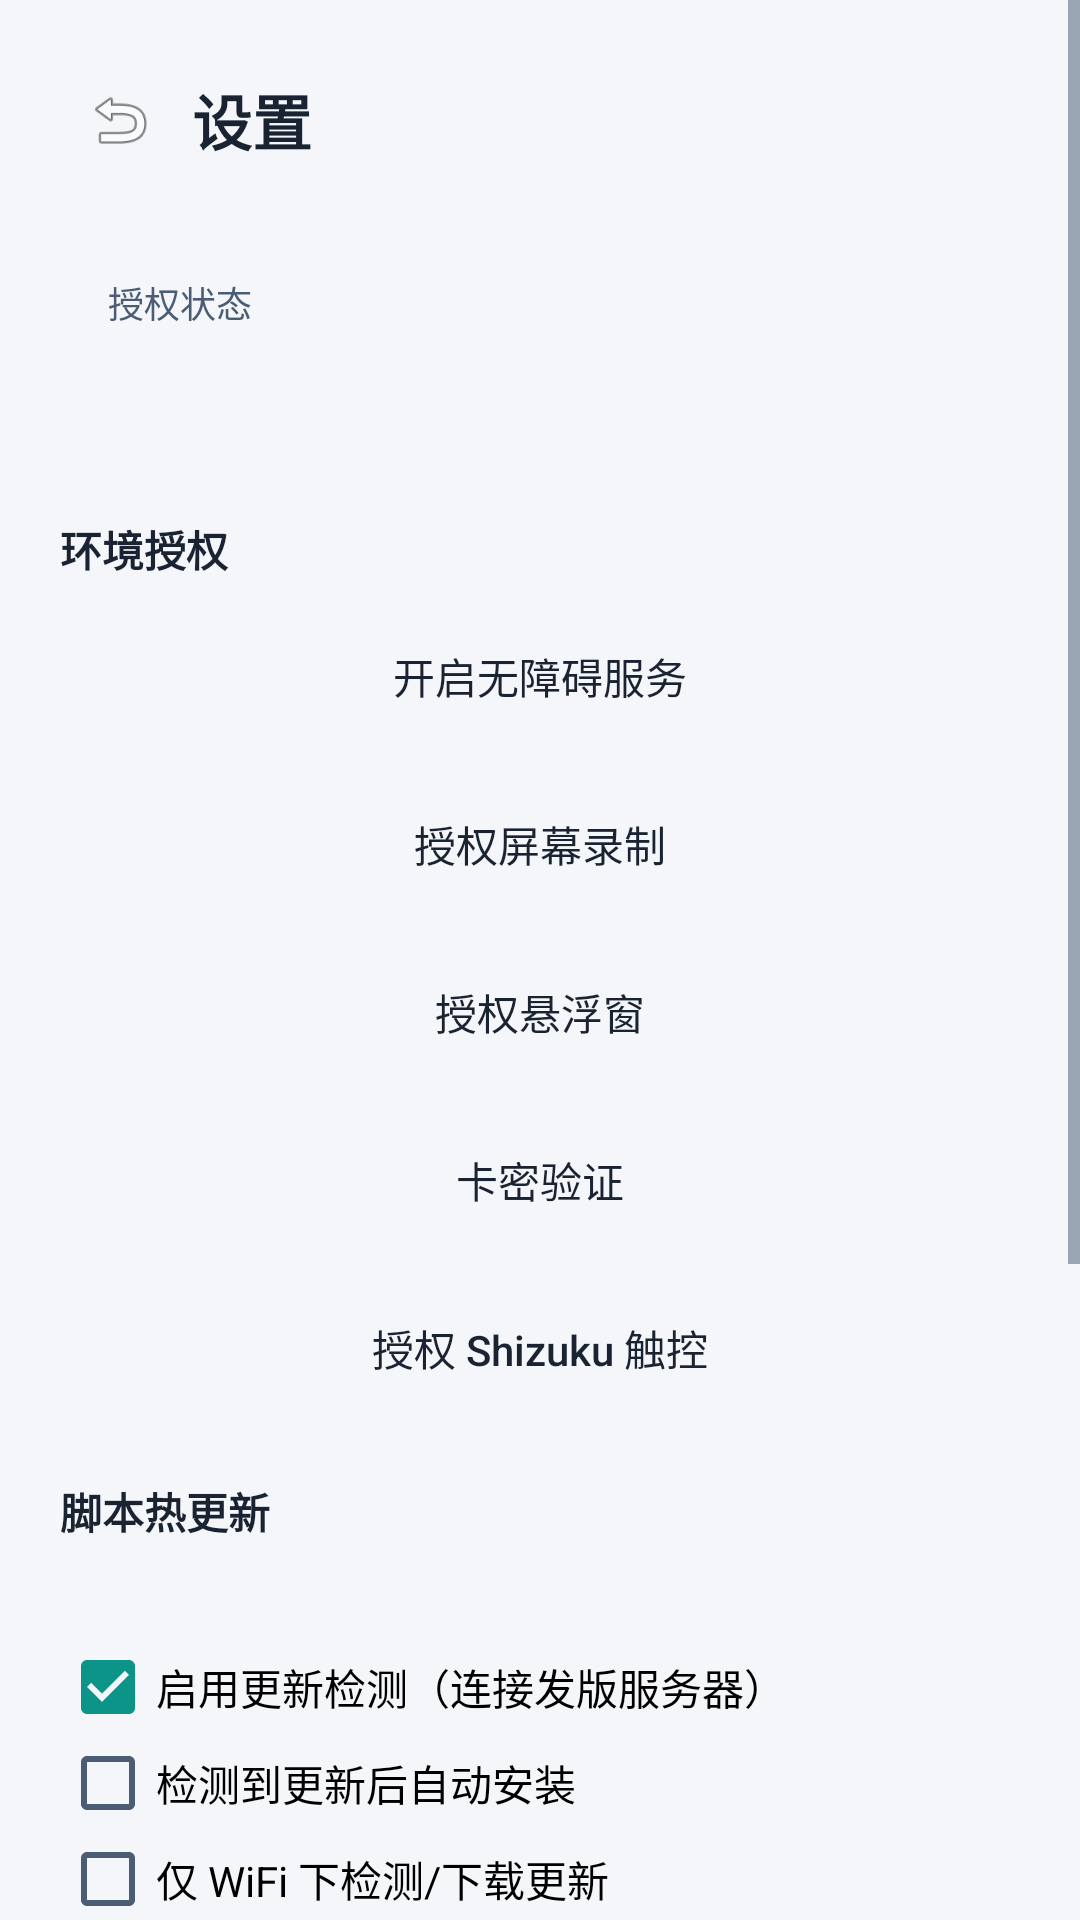

Where to tap for icons on this 1080w x 1920h app screen, as [x,y]:
返回: [121,120]
